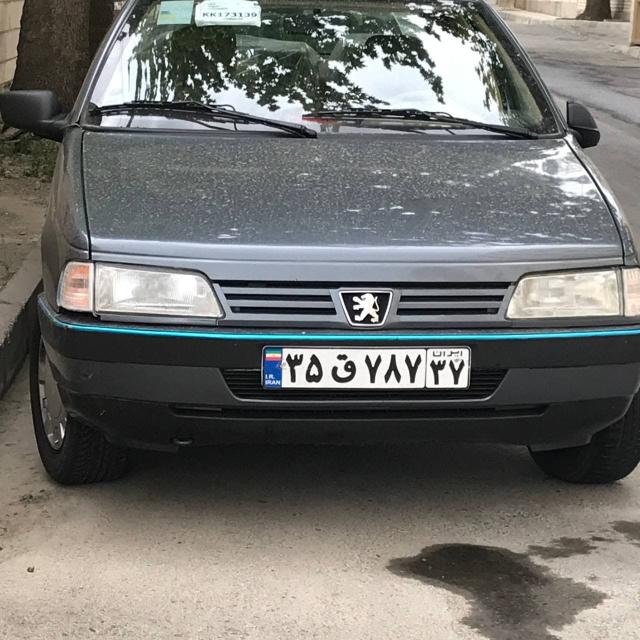Plates: (264, 348, 469, 389)
